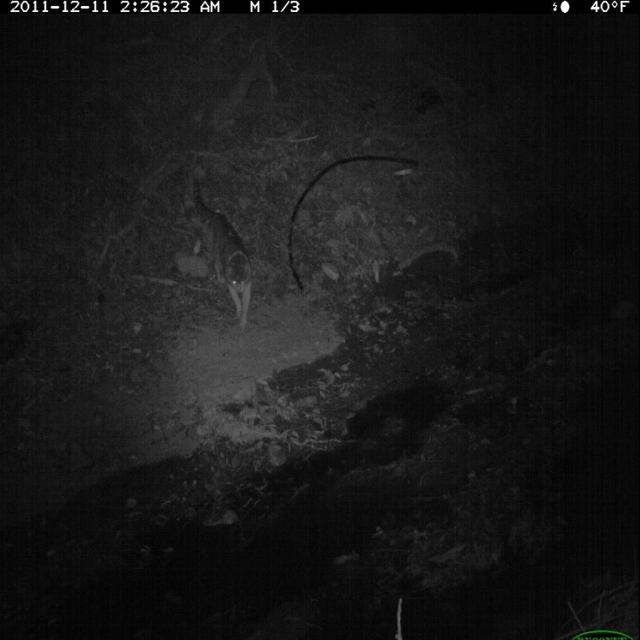cat: (190, 170, 257, 334)
